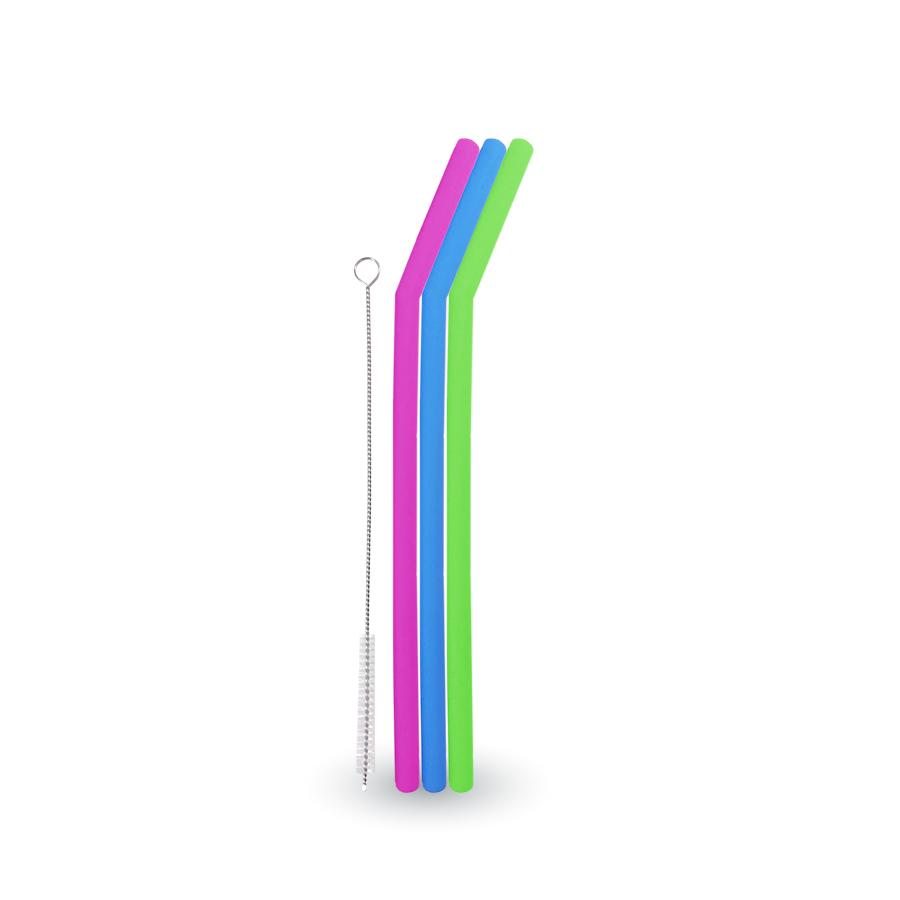Drinking Straw: (390, 131, 542, 798)
